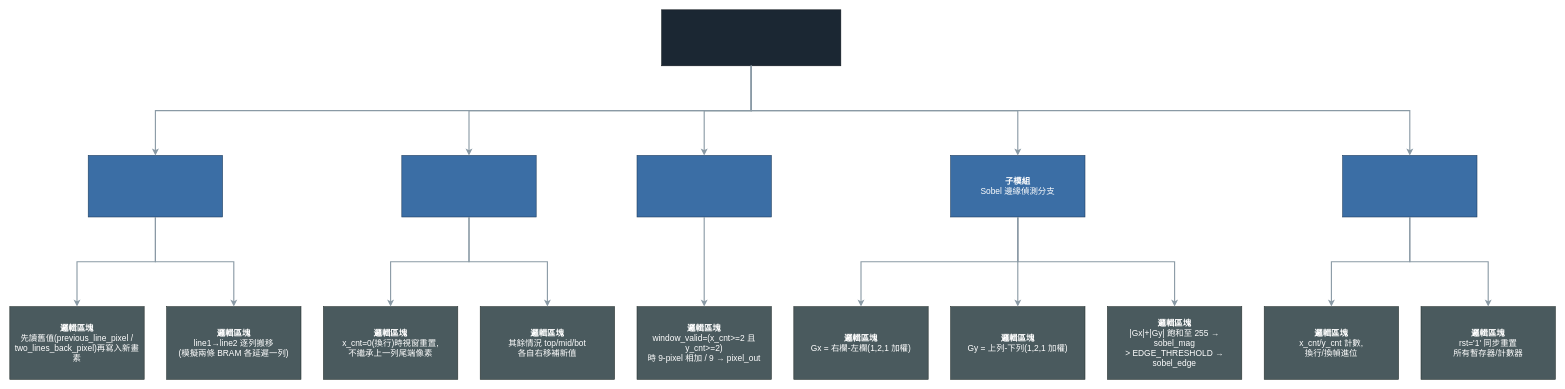
This 1565x389 diagram has some shape labels left out. Here are the shapes that lost their labels. From the top down, the centre of each, then its label:
point (751, 37): mean3x3_linebuffer (top module)
point (155, 186): 子模組 Line Buffer 讀寫 (line1 / line2)
point (468, 186): 子模組 3x3 視窗移位 (top0~bot2 shift window)
point (703, 186): 子模組 Mean 濾波分支
point (1409, 186): 子模組 座標/時序控制 (x_cnt / y_cnt / out_valid)
